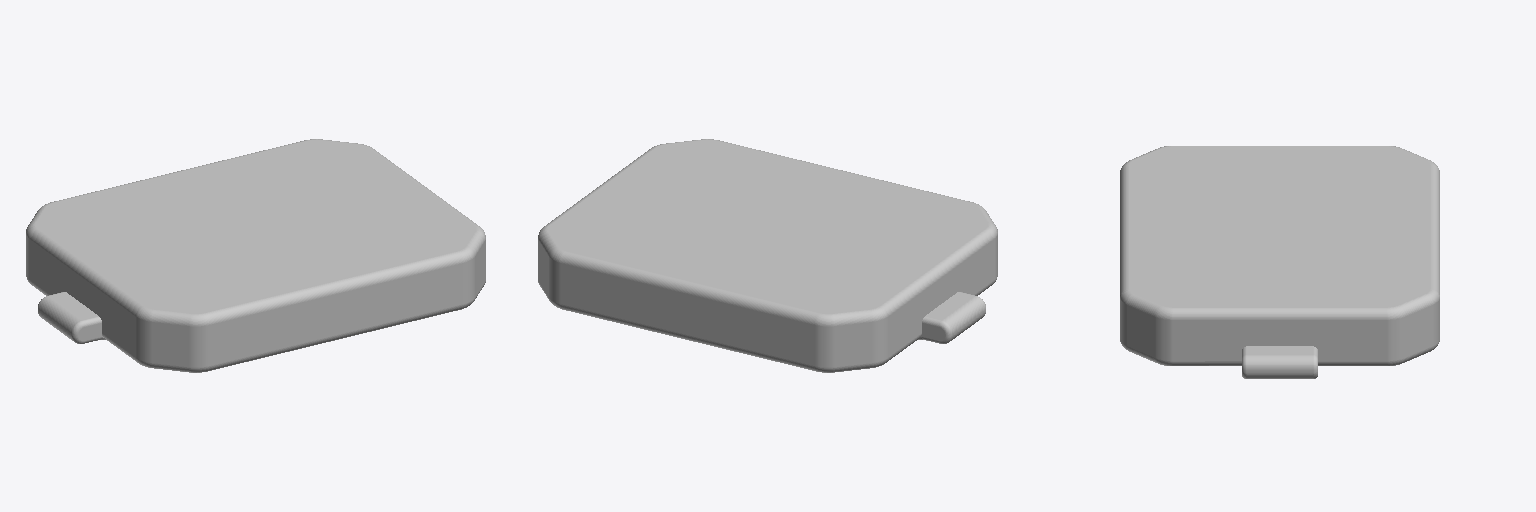
The model's file is arena3.obj.
The picture shows the model from 3 angles: view 1: azimuth 30°, elevation 25°; view 2: azimuth 150°, elevation 25°; view 3: azimuth 270°, elevation 25°; orthographic projection.
Parts seen in each view (by area): view 1: Cube; view 2: Cube; view 3: Cube.
Boxes of the visible parts, box(x1,y1,x2,y2) form: Cube: box(26, 139, 485, 372); Cube: box(538, 139, 997, 372); Cube: box(1120, 146, 1439, 378).
Size of the model in its own units: 87 by 12 by 60.